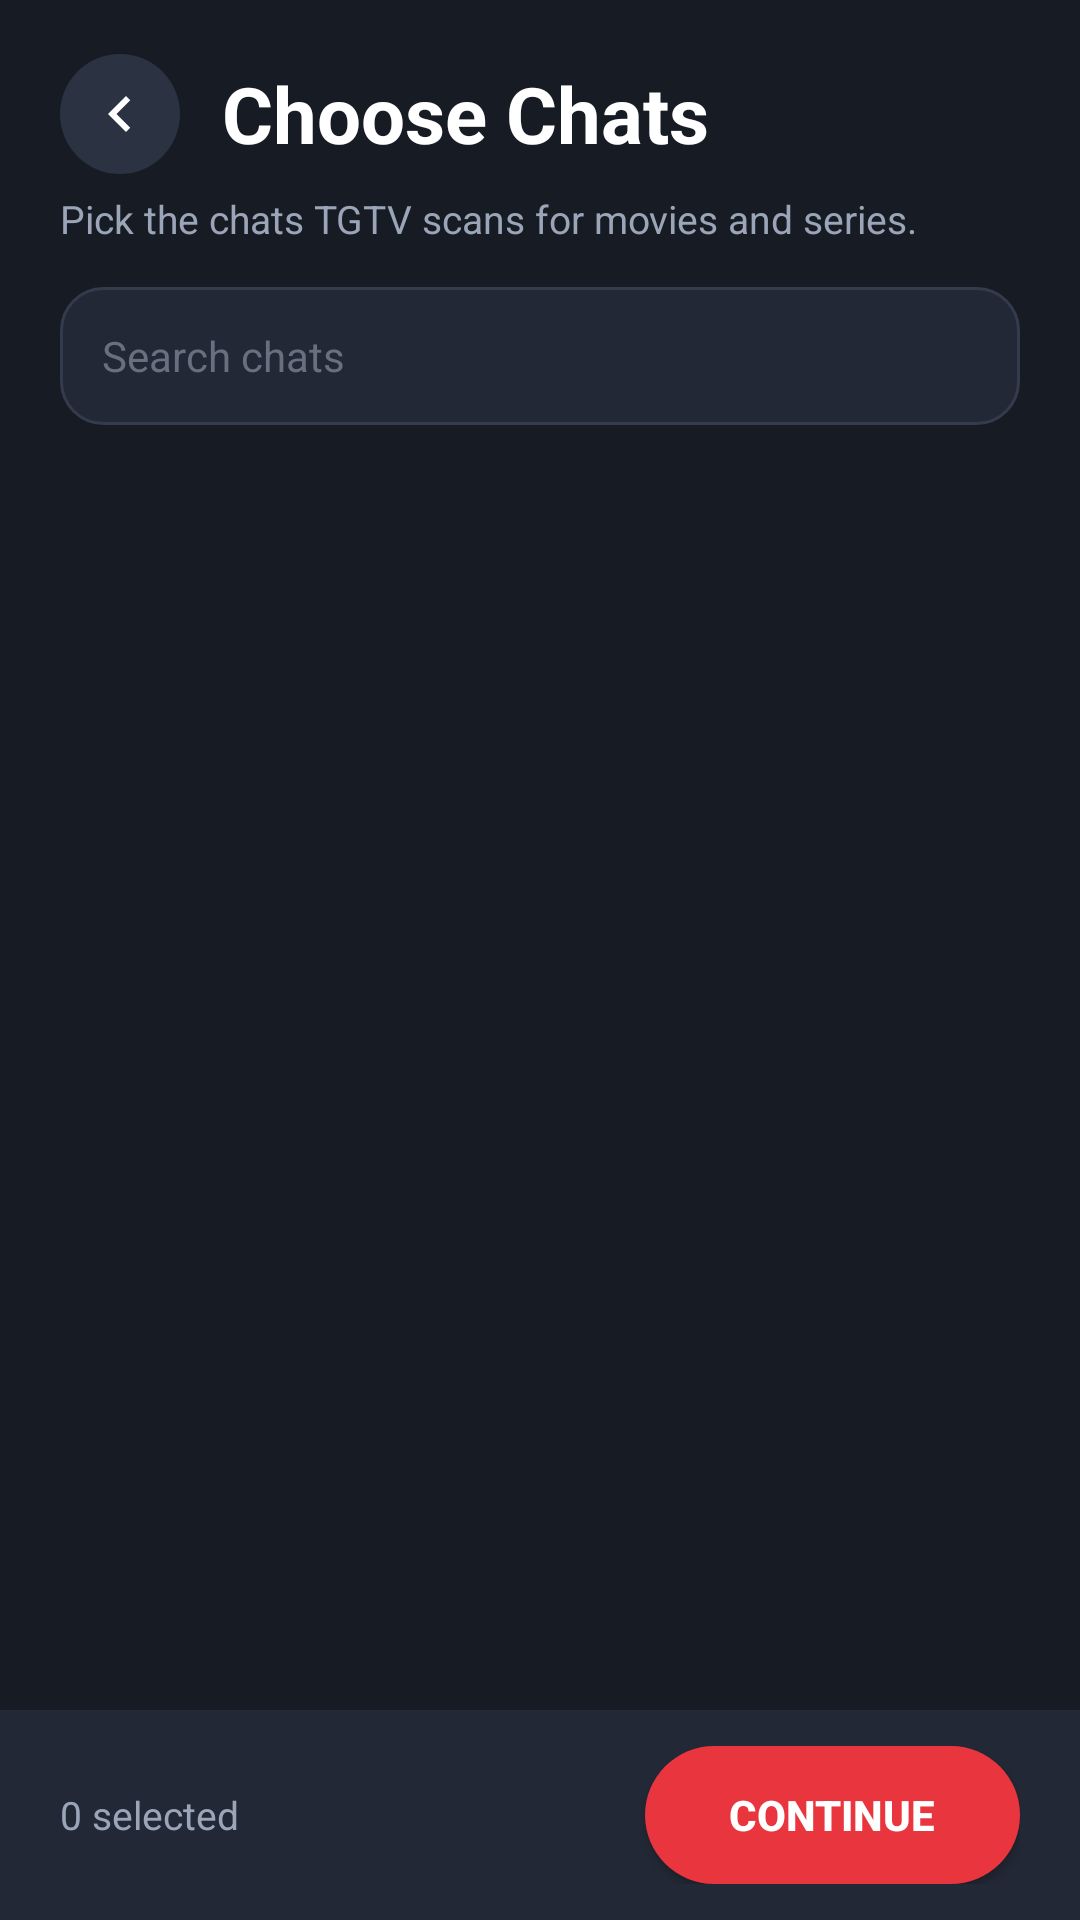

Icons on this 1080 × 1920 Android screen, each with the point to tap as point (x, y):
Back: point (120, 114)
